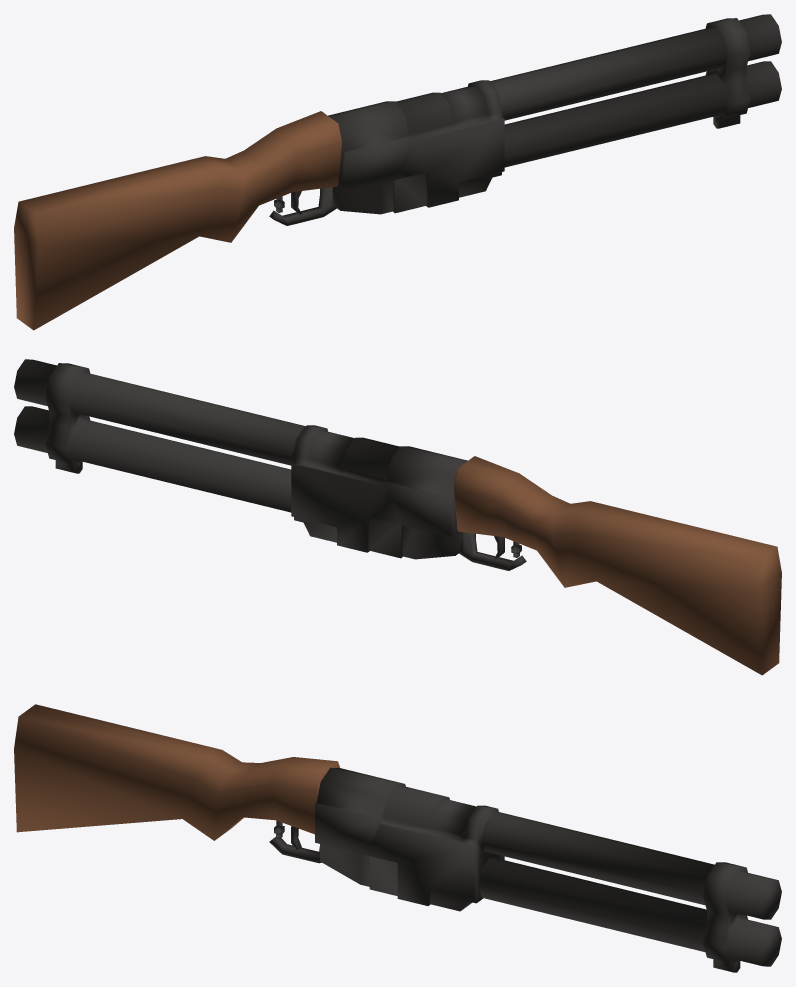
File: grave_boomstick.glb
3 views of the same model, one above another, from view 1: azimuth 30°, elevation 25°; view 2: azimuth 150°, elevation 25°; view 3: azimuth 330°, elevation 25° (orthographic).
Visible parts, largest first — view 1: Cube.079, Cube.080; view 2: Cube.079, Cube.080; view 3: Cube.079, Cube.080.
Part boxes in pixels (x1=…): Cube.079: x1=269, y1=14, x2=781, y2=225; Cube.080: x1=14, y1=111, x2=342, y2=330; Cube.079: x1=14, y1=359, x2=526, y2=570; Cube.080: x1=453, y1=456, x2=781, y2=675; Cube.079: x1=269, y1=767, x2=781, y2=972; Cube.080: x1=14, y1=704, x2=339, y2=840.
Size of the model in its own units: 6.97 by 1.19 by 0.4975.
